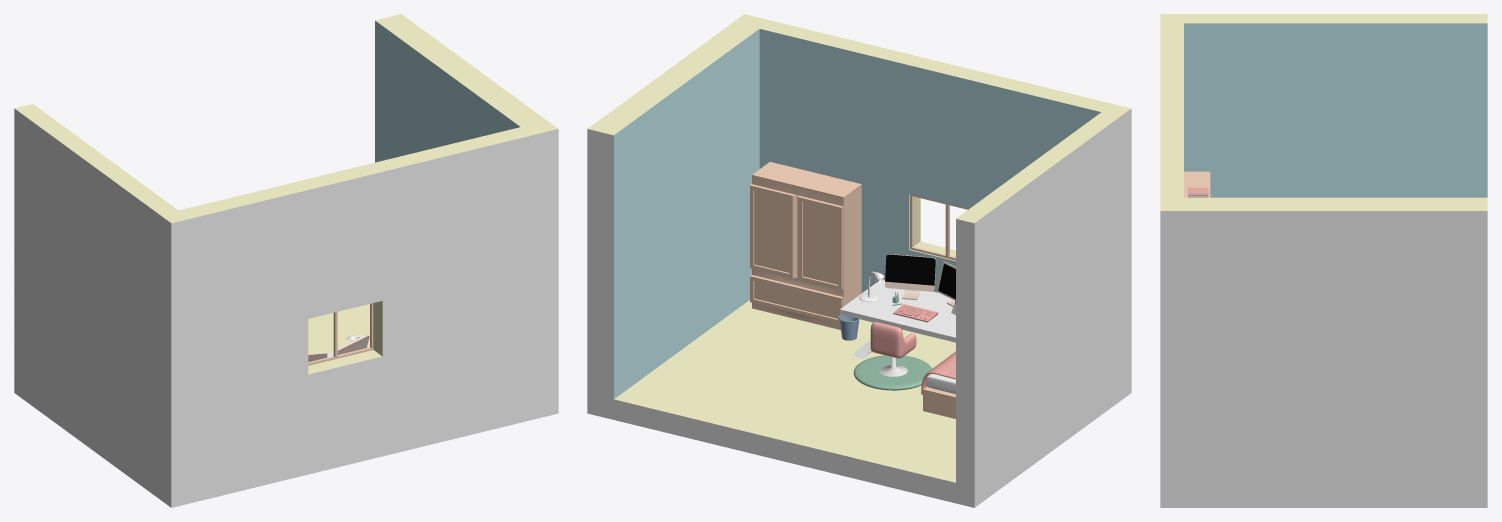
Rendered from Study_Room_14.glb.
3 views of the same model, side by side, from view 1: azimuth 30°, elevation 25°; view 2: azimuth 150°, elevation 25°; view 3: azimuth 270°, elevation 25° (orthographic). The views are drawn at different scales.
Visible parts, largest first — view 1: Room, Window Frame; view 2: Room, Closet, Table Top, Rug, Desktop Screen, Chair, Bedframe, Window Frame; view 3: Room, Shelf.001.
Part boxes in pixels (left/top/right/bottom): Room: left=14, top=14, right=558, bottom=507; Window Frame: left=308, top=303, right=373, bottom=365; Room: left=587, top=14, right=1131, bottom=507; Closet: left=750, top=162, right=861, bottom=329; Table Top: left=840, top=279, right=955, bottom=342; Rug: left=853, top=355, right=931, bottom=390; Desktop Screen: left=885, top=254, right=935, bottom=285; Chair: left=870, top=322, right=916, bottom=358; Bedframe: left=923, top=386, right=955, bottom=418; Window Frame: left=910, top=194, right=968, bottom=260; Room: left=1160, top=14, right=1487, bottom=507; Shelf.001: left=1184, top=171, right=1210, bottom=197.
Bounding box in the file's own units: 27.72 × 19.48 × 19.48.
